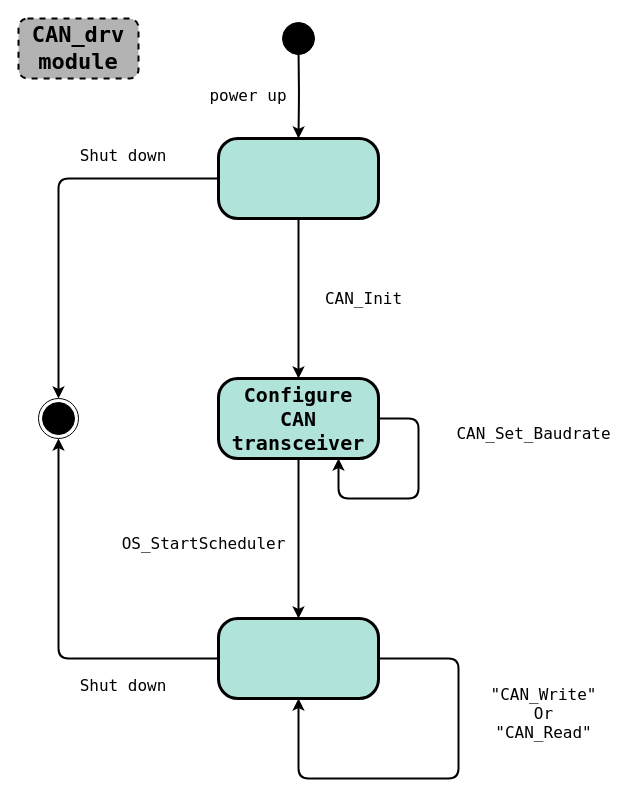
Some shapes in this 640 by 804 pixel diagram are drawn without their labels. Here are the shapes that lost their labels. From the top down, the box of each, then its label:
(216, 136, 380, 220): Idle
(216, 616, 380, 700): Handle Tx & Rx Frames
